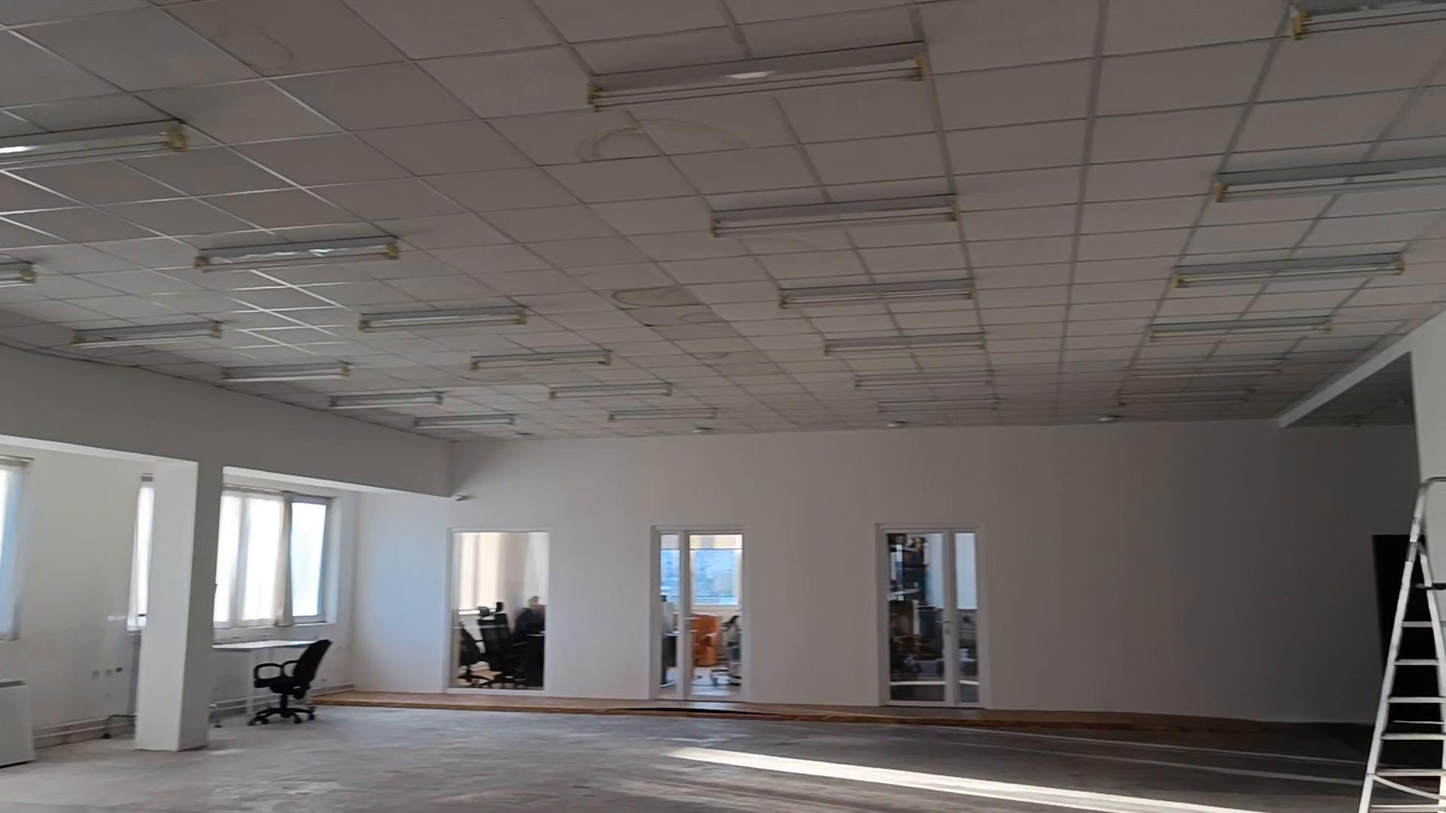ceiling: (0, 0, 1445, 437)
floor: (0, 703, 1365, 812)
wall: (351, 425, 1418, 718), (0, 351, 448, 496), (38, 457, 138, 724), (133, 461, 223, 751)
